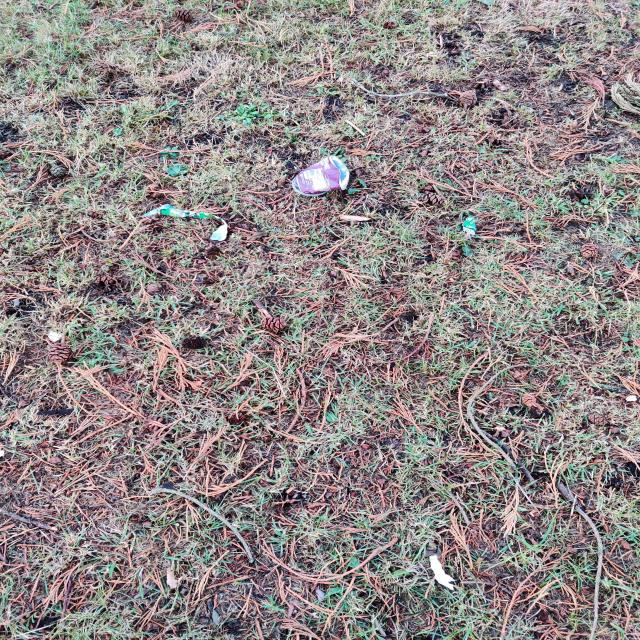litter: (138, 204, 228, 241), (292, 156, 349, 195), (462, 215, 476, 234)
